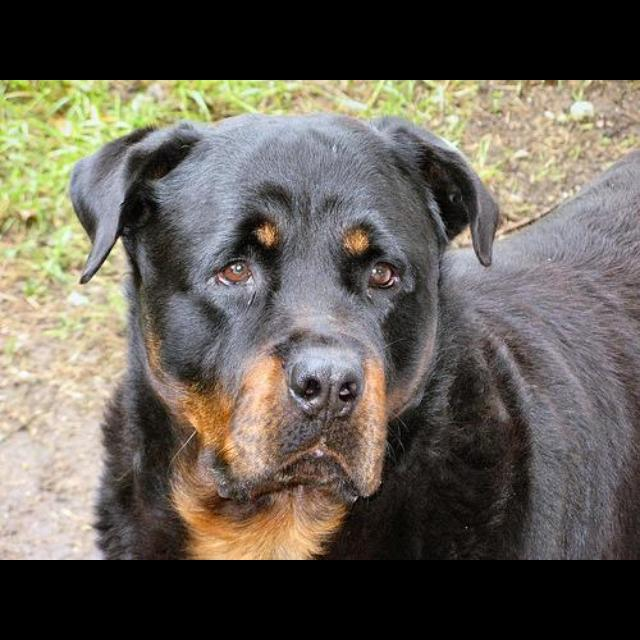rottweiler: (68, 111, 640, 560)
